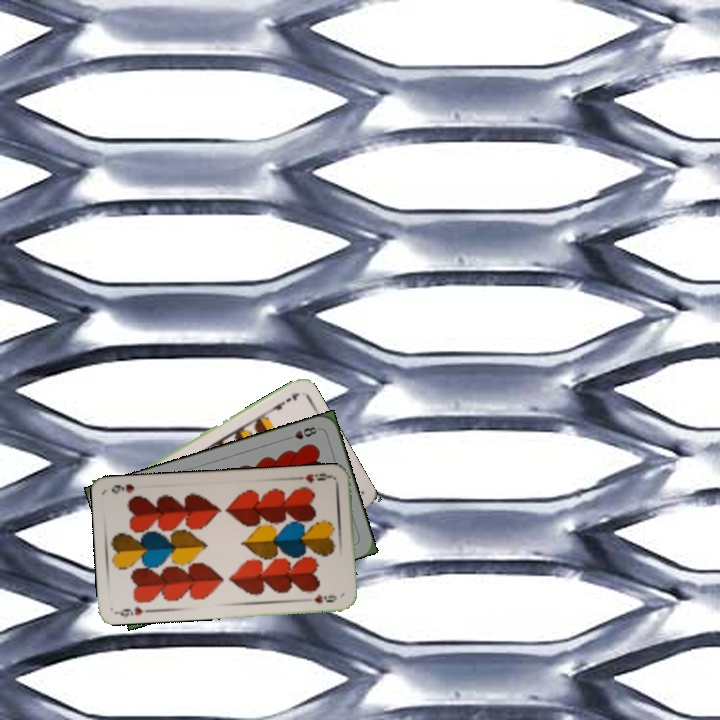E7: (264, 389, 302, 415)
H8: (282, 423, 322, 443)
H9: (294, 469, 335, 485), (113, 602, 146, 619)
